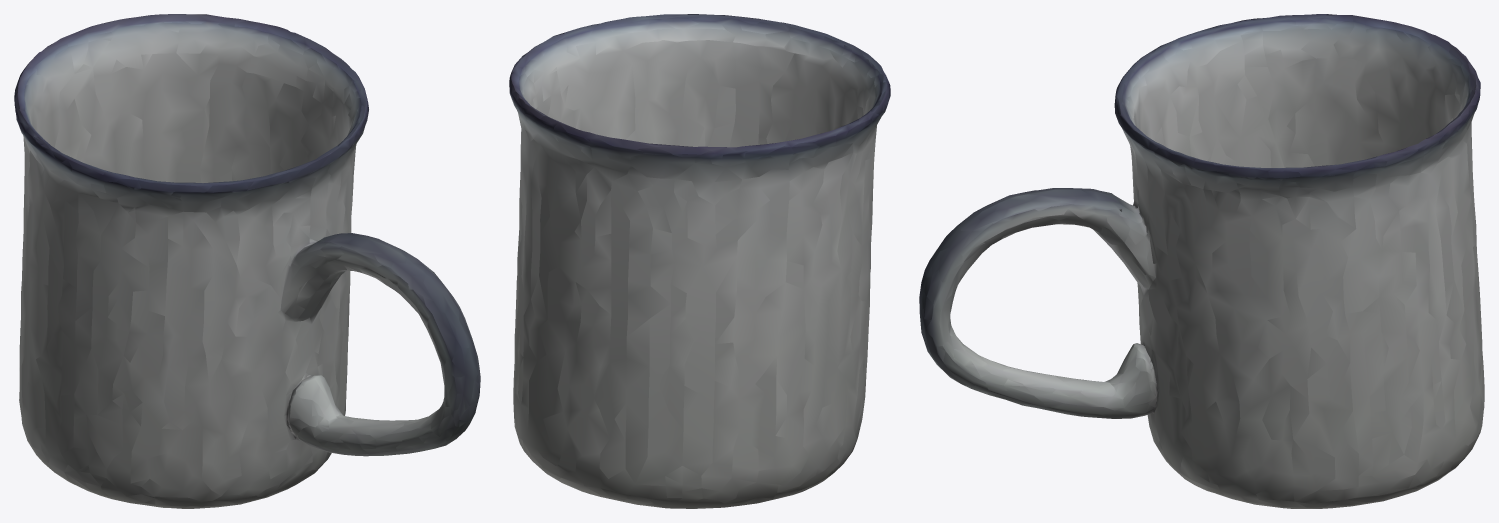
File: 0006_mask_007_small_white_cup.glb
The picture shows the model from 3 angles, left to right: view 1: azimuth 30°, elevation 25°; view 2: azimuth 150°, elevation 25°; view 3: azimuth 270°, elevation 25°; orthographic projection. The views are drawn at different scales.
Parts seen in each view (by area): view 1: mask_007_object; view 2: mask_007_object; view 3: mask_007_object.
Boxes of the visible parts, box(x1,y1,x2,y2) form: mask_007_object: box(14, 14, 480, 508); mask_007_object: box(509, 14, 890, 508); mask_007_object: box(919, 14, 1484, 508).
Size of the model in its own units: 0.1111 by 0.1262 by 0.1713.
